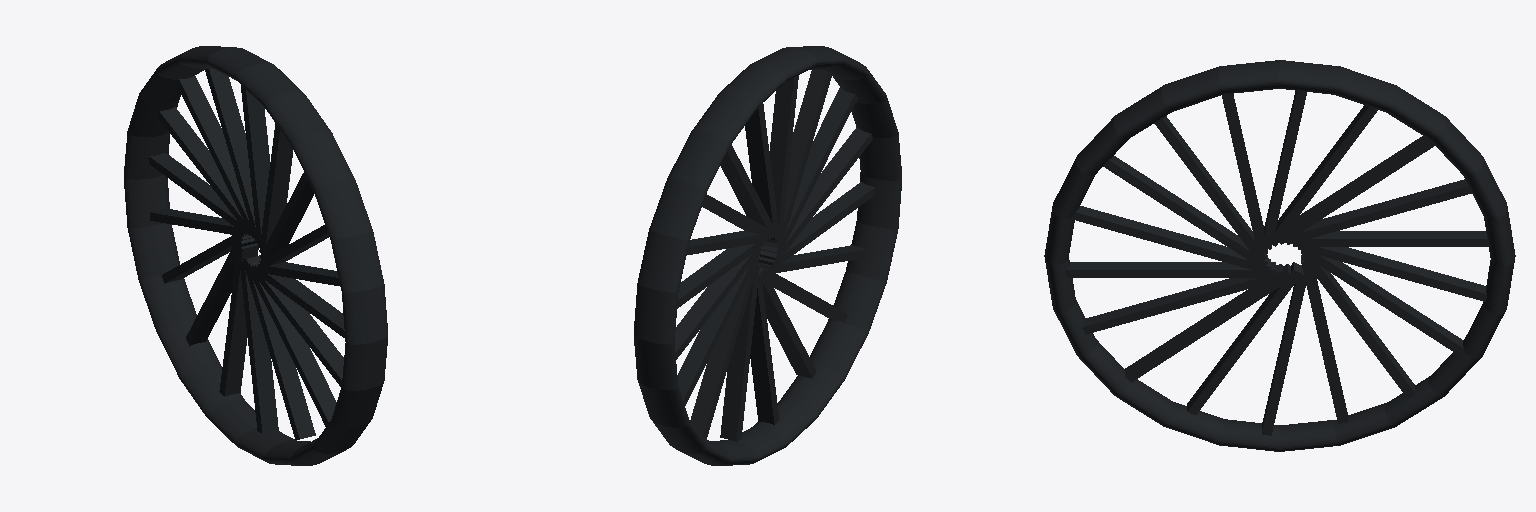
File: Tire.obj
The picture shows the model from 3 angles: view 1: azimuth 30°, elevation 25°; view 2: azimuth 150°, elevation 25°; view 3: azimuth 270°, elevation 25°; orthographic projection.
Parts seen in each view (by area): view 1: obj_0; view 2: obj_0; view 3: obj_0.
Part boxes in pixels (bbox=[...]): obj_0: bbox=[124, 46, 387, 465]; obj_0: bbox=[634, 46, 901, 465]; obj_0: bbox=[1044, 60, 1515, 451].
Bounding box in the file's own units: 5.37 × 44.89 × 50.